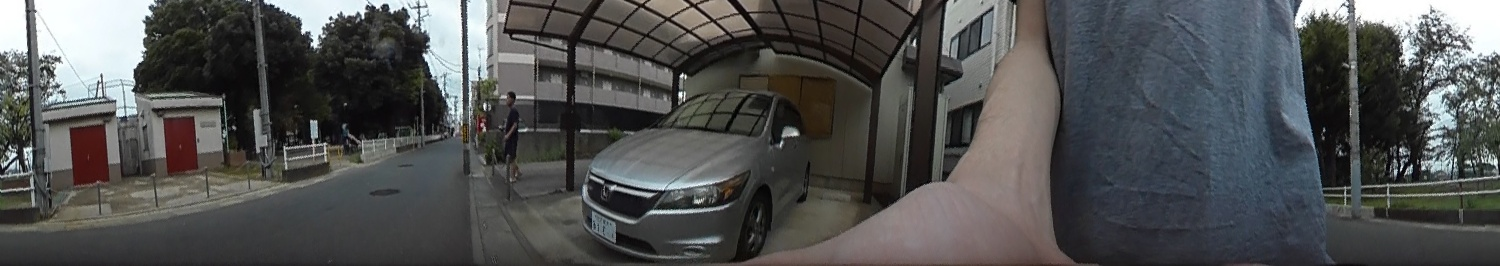person: (498, 88, 523, 182)
